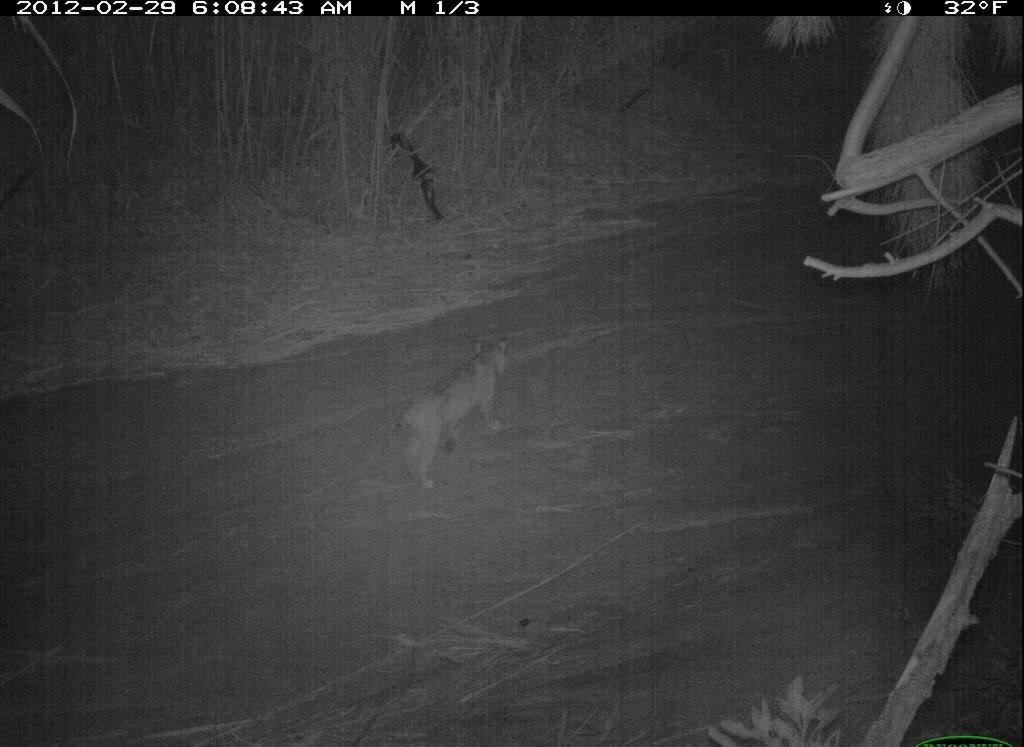bobcat: (385, 326, 523, 497)
